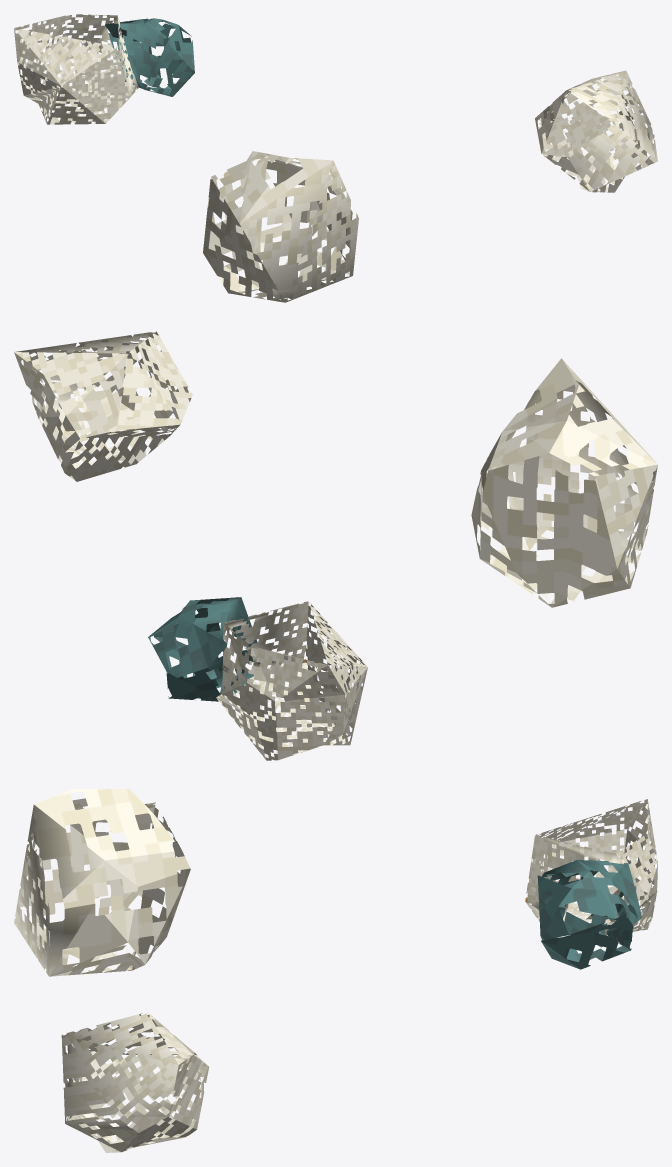
File: escombrosmurallagrecia.fbx
3 views of the same model, one above another, from view 1: azimuth 30°, elevation 25°; view 2: azimuth 150°, elevation 25°; view 3: azimuth 270°, elevation 25° (orthographic). The views are drawn at different scales.
Visible parts, largest first — view 1: PIEDRA1; view 2: PIEDRA1; view 3: PIEDRA1.
Boxes of the visible parts, box(x1,y1,x2,y2) form: PIEDRA1: box(14, 14, 657, 302); PIEDRA1: box(14, 331, 657, 760); PIEDRA1: box(14, 789, 657, 1152).
Size of the model in its own units: 4.39 by 4.49 by 1.43.
1 material, 1 textured.
